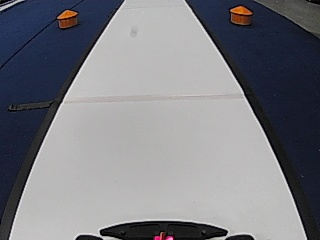granary: (228, 4, 254, 26), (55, 7, 78, 29)
